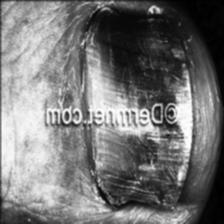Toxin: (77, 9, 193, 104), (83, 122, 193, 214)
